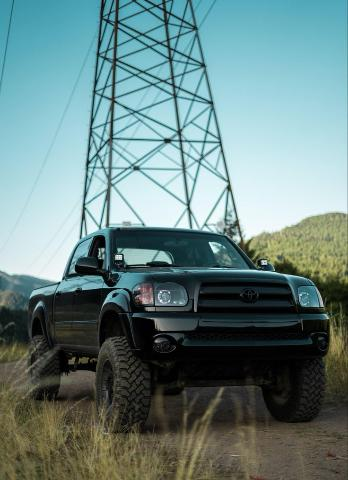pickup-truck: (25, 224, 331, 435)
